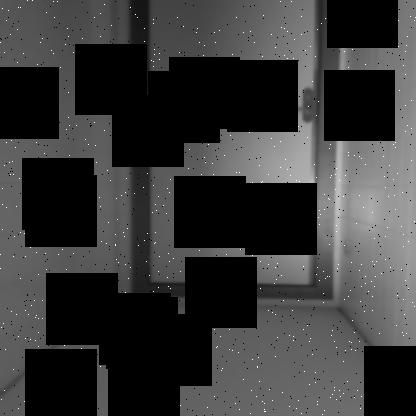Porte: (130, 1, 342, 303)
